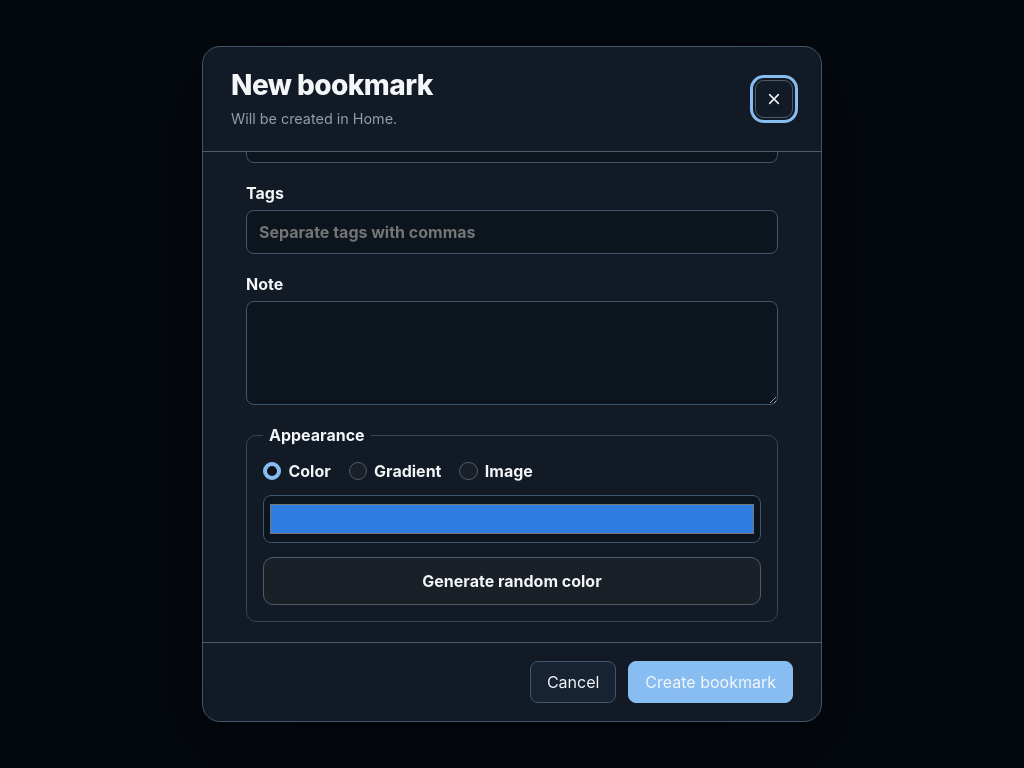
Test: CreateContentDialog edit mode › generates a random color and updates the color preview
(page scrolled)
Click the button "Generate random color".
click(512, 581)  # box [263,557,761,605]
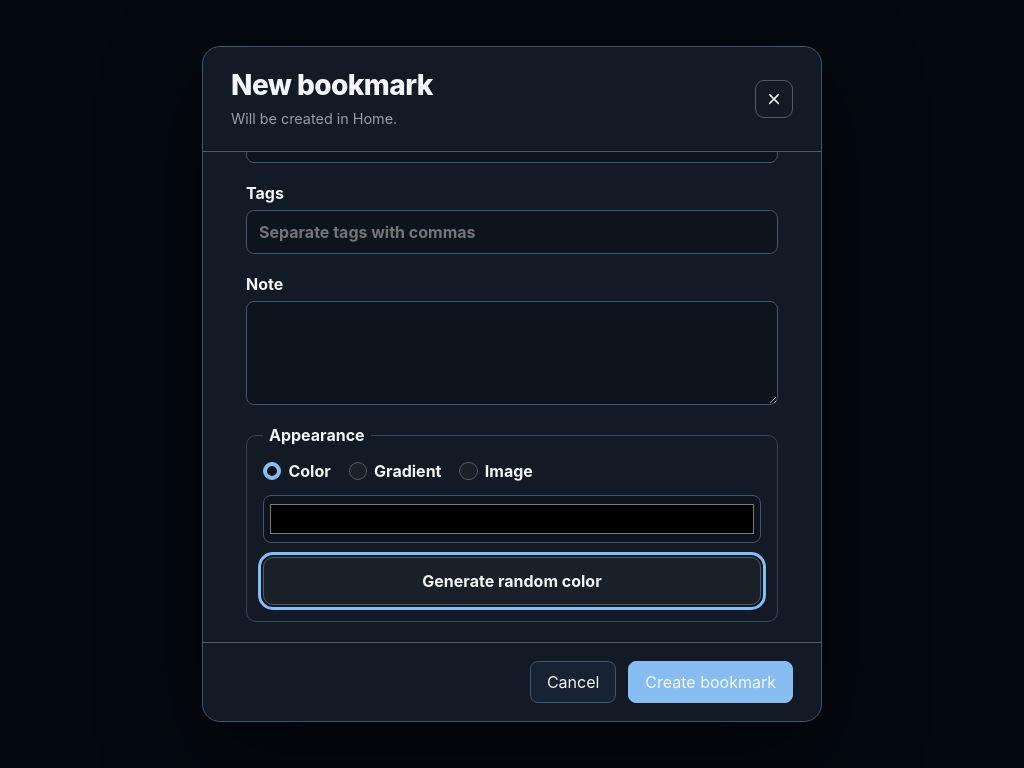
Result: the colour field named "Card color" holds "#000000" at [263,495,761,543]
